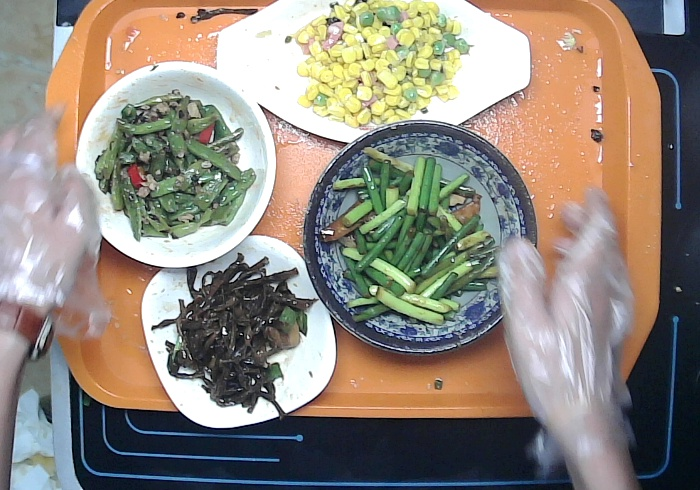ZNLD-Qing_Hua_Wan: (299, 118, 537, 357)
ZNLD-Si_Fang_Wan: (136, 231, 337, 430)
ZNLD-Tang_Wan: (74, 61, 277, 269)
ZNLD-Yu_Pan: (211, 8, 532, 151)
